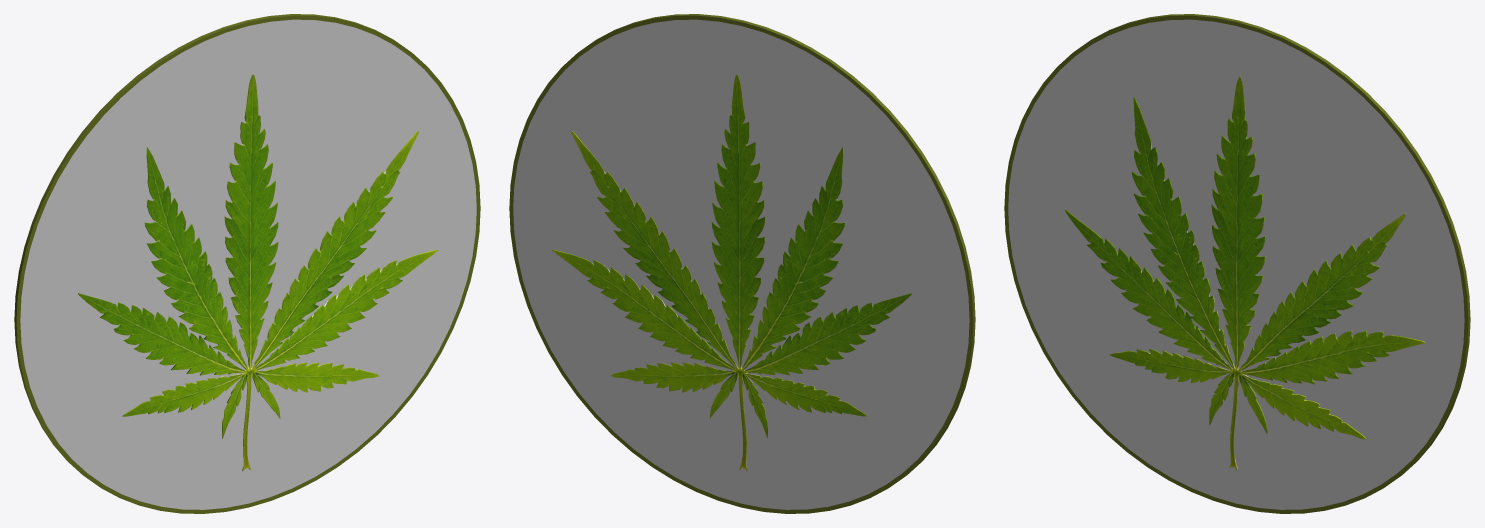
The model's file is pot-leaf.glb.
The picture shows the model from 3 angles, left to right: view 1: azimuth 30°, elevation 25°; view 2: azimuth 150°, elevation 25°; view 3: azimuth 330°, elevation 25°; orthographic projection.
Visible parts, largest first — view 1: Disc, Cannabis_Leaf_Realistic, Ring; view 2: Disc, Cannabis_Leaf_Realistic, Ring; view 3: Disc, Cannabis_Leaf_Realistic, Ring.
Part boxes in pixels (x1,y1,x2,y2): Disc: (20, 19, 476, 509); Cannabis_Leaf_Realistic: (78, 74, 438, 471); Ring: (14, 14, 480, 513); Disc: (513, 19, 969, 509); Cannabis_Leaf_Realistic: (551, 74, 911, 470); Ring: (509, 14, 975, 513); Disc: (1008, 19, 1464, 509); Cannabis_Leaf_Realistic: (1065, 76, 1425, 470); Ring: (1004, 14, 1470, 513).
Size of the model in its own units: 0.5 by 0.5 by 0.00615.
3 materials, 1 textured.
